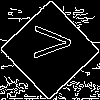V: (25, 25, 71, 59)
